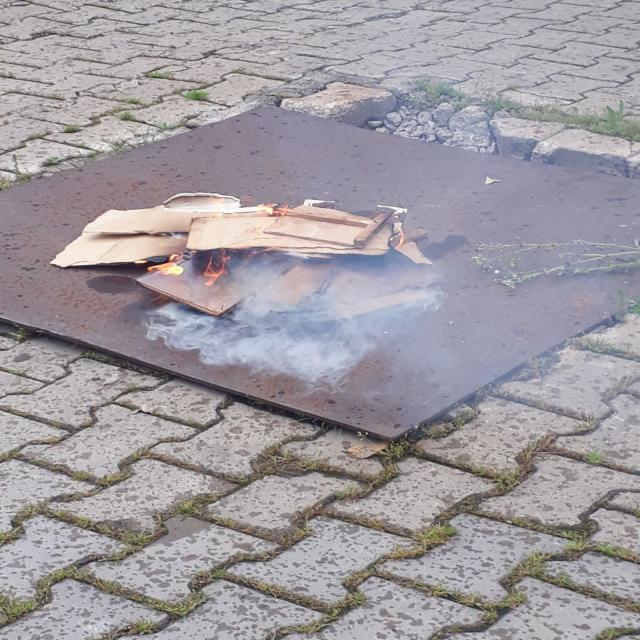fire: (134, 228, 265, 294)
